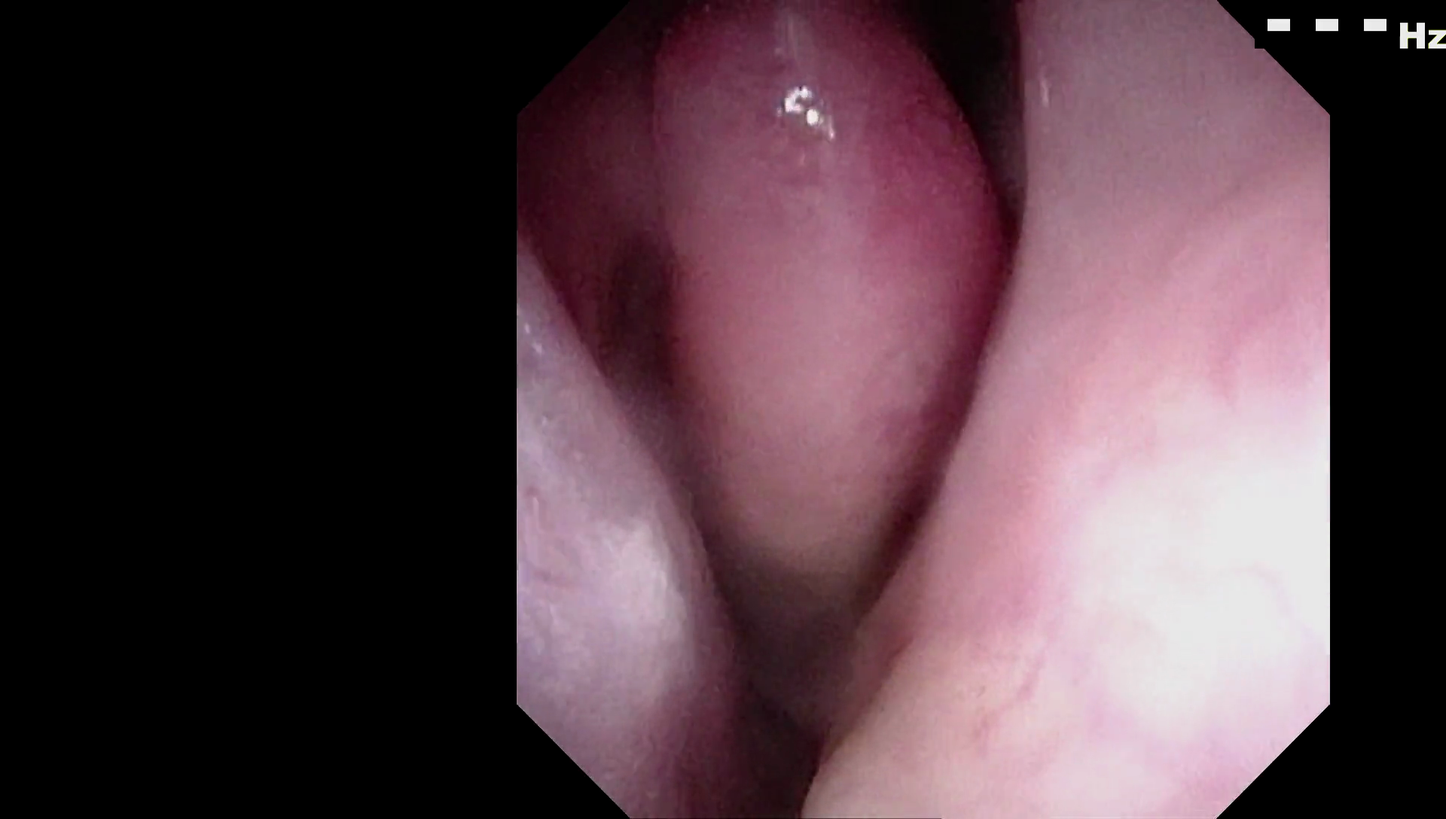close_wall: (920, 299, 1321, 709)
next: (643, 535, 889, 819), (862, 0, 1040, 177)
